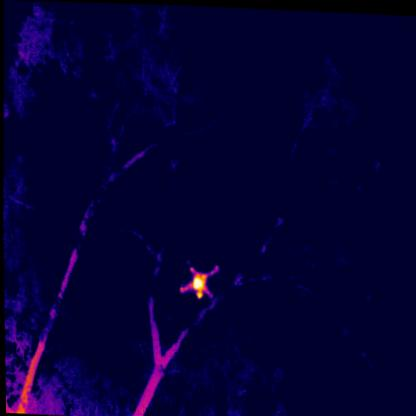drone: (178, 258, 218, 298)
